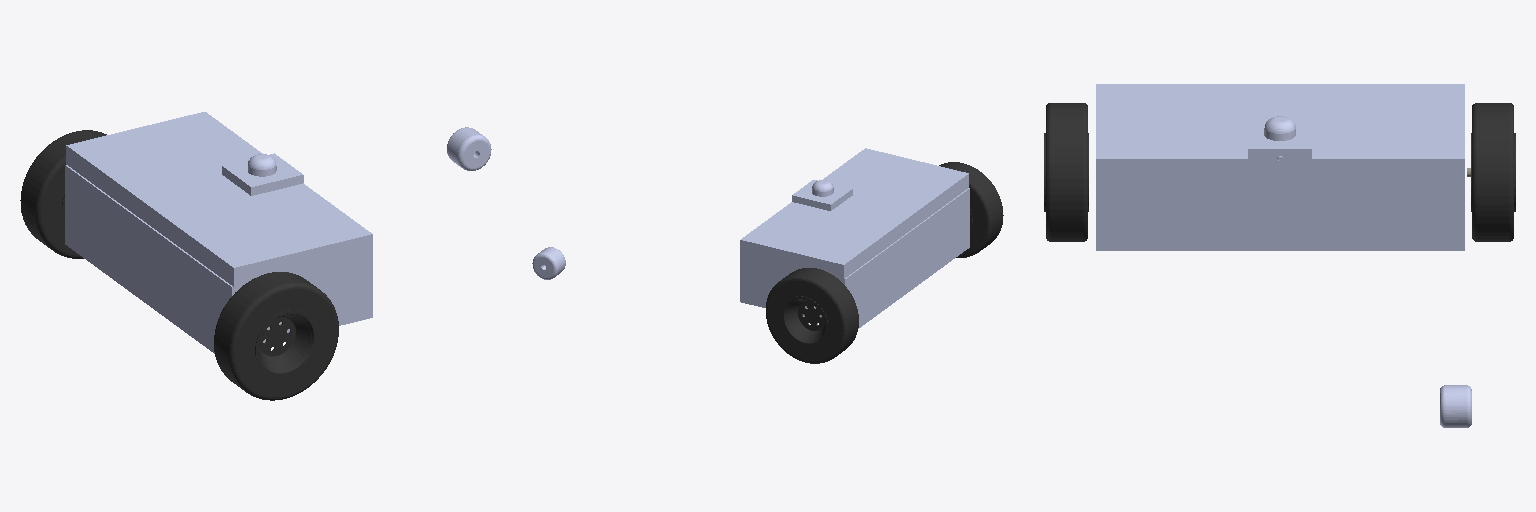
robot.urdf — mowbot:
<?xml version="1.0" encoding="utf-8"?>
<!-- This URDF was automatically created by SolidWorks to URDF Exporter! Originally created by [author] ([email redacted]) 
     Commit Version: 1.6.0-1-g15f4949  Build Version: 1.6.7594.29634
     For more information, please see http://wiki.ros.org/sw_urdf_exporter -->
<robot
  name="mowbot">
  <link
    name="base_link_collision">
    <inertial>
      <origin
        xyz="-1.07242311207568 -0.466809806679582 0.659283164452566"
        rpy="0 0 0" />
      <mass
        value="8.43639227238404" />
      <inertia
        ixx="0.784903759828431"
        ixy="1.08724156323787E-16"
        ixz="-0.0262712397999976"
        iyy="0.513799136067179"
        iyz="1.21747716886318E-16"
        izz="1.27862934221056" />
    </inertial>
    <visual>
      <origin
        xyz="0 0 0"
        rpy="0 0 0" />
      <geometry>
        <mesh
          filename="package://mowbot_v1/meshes/base_link_collision.STL" />
      </geometry>
      <material
        name="">
        <color
          rgba="0.792156862745098 0.819607843137255 0.933333333333333 1" />
      </material>
    </visual>
    <collision>
      <origin
        xyz="0 0 0"
        rpy="0 0 0" />
      <geometry>
        <mesh
          filename="package://mowbot_v1/meshes/base_link_collision.STL" />
      </geometry>
    </collision>
  </link>
  <link
    name="Left_back_link_collision">
    <inertial>
      <origin
        xyz="0 -0.0516944479368262 1.11022302462516E-16"
        rpy="0 0 0" />
      <mass
        value="0.457406434462016" />
      <inertia
        ixx="0.000379865320962435"
        ixy="-1.53340823737443E-20"
        ixz="2.00126009449548E-20"
        iyy="0.000605566845786777"
        iyz="-6.36282392622323E-20"
        izz="0.000379865320962435" />
    </inertial>
    <visual>
      <origin
        xyz="0 0 0"
        rpy="0 0 0" />
      <geometry>
        <mesh
          filename="package://mowbot_v1/meshes/Left_back_link_collision.STL" />
      </geometry>
      <material
        name="">
        <color
          rgba="0.647058823529412 0.619607843137255 0.588235294117647 1" />
      </material>
    </visual>
    <collision>
      <origin
        xyz="0 0 0"
        rpy="0 0 0" />
      <geometry>
        <mesh
          filename="package://mowbot_v1/meshes/Left_back_link_collision.STL" />
      </geometry>
    </collision>
  </link>

  <joint
    name="Left_drive_wheel_collision"
    type="revolute">
    <origin
      xyz="-1.5558 -0.024 0.62929"
      rpy="0 0 3.1416" />
    <parent
      link="base_link_collision" />
    <child
      link="Left_back_link_collision" />
    <axis
      xyz="0 1 0" />
    <limit
      effort="14.08"
      velocity="12.47" />
  </joint>

  <link
    name="Big_Left_drive_wheel">
    <inertial>
      <origin
        xyz="2.88657986402541E-15 0.00253999999999991 6.99440505513849E-15"
        rpy="0 0 0" />
      <mass
        value="0.865783559302399" />
      <inertia
        ixx="0.0087101639453226"
        ixy="-1.8447046377941E-19"
        ixz="6.2871241193797E-18"
        iyy="0.0148072252563878"
        iyz="1.27245613539844E-18"
        izz="0.00871016394532261" />
    </inertial>
    <visual>
      <origin
        xyz="0 0 0"
        rpy="0 0 0" />
      <geometry>
        <mesh
          filename="package://mowbot_v1/meshes/Big_Left_drive_wheel.STL" />
      </geometry>
      <material
        name="">
        <color
          rgba="0.250980392156863 0.250980392156863 0.250980392156863 1" />
      </material>
    </visual>
    <collision>
      <origin
        xyz="0 0 0"
        rpy="0 0 0" />
      <geometry>
        <mesh
          filename="package://mowbot_v1/meshes/Big_Left_drive_wheel.STL" />
      </geometry>
    </collision>
  </link>

  <joint
    name="Left_big_wheel"
    type="continuous">
    <origin
      xyz="0 -0.059347 0"
      rpy="0 0 -3.1416" />
    <parent
      link="Left_back_link_collision" />
    <child
      link="Big_Left_drive_wheel" />
    <axis
      xyz="0 1 0" />
  </joint>

  <link
    name="Right_back_link_collision">
    <inertial>
      <origin
        xyz="0.0516944479368262 0 0"
        rpy="0 0 0" />
      <mass
        value="0.457406434462017" />
      <inertia
        ixx="0.000605566845786777"
        ixy="-4.54885968259021E-20"
        ixz="-1.4852017744384E-20"
        iyy="0.000379865320962435"
        iyz="6.66407504159206E-20"
        izz="0.000379865320962436" />
    </inertial>
    <visual>
      <origin
        xyz="0 0 0"
        rpy="0 0 0" />
      <geometry>
        <mesh
          filename="package://mowbot_v1/meshes/Right_back_link_collision.STL" />
      </geometry>
      <material
        name="">
        <color
          rgba="0.647058823529412 0.619607843137255 0.588235294117647 1" />
      </material>
    </visual>
    <collision>
      <origin
        xyz="0 0 0"
        rpy="0 0 0" />
      <geometry>
        <mesh
          filename="package://mowbot_v1/meshes/Right_back_link_collision.STL" />
      </geometry>
    </collision>
  </link>

  <joint
    name="Right_drive_wheel_collision"
    type="revolute">
    <origin
      xyz="-1.5558 -0.9108 0.62929"
      rpy="0 0 -1.5708" />
    <parent
      link="base_link_collision" />
    <child
      link="Right_back_link_collision" />
    <axis
      xyz="-1 0 0" />
    <limit
      effort="14.08"
      velocity="12.47" />
  </joint>

  <link
    name="Big_right_drive_wheel">
    <inertial>
      <origin
        xyz="0 -0.0025400000000001 0"
        rpy="0 0 0" />
      <mass
        value="0.865783559302402" />
      <inertia
        ixx="0.00871016394532259"
        ixy="2.01760622051767E-18"
        ixz="2.57399683328125E-18"
        iyy="0.0148072252563877"
        iyz="2.68460910313788E-18"
        izz="0.00871016394532259" />
    </inertial>
    <visual>
      <origin
        xyz="0 0 0"
        rpy="0 0 0" />
      <geometry>
        <mesh
          filename="package://mowbot_v1/meshes/Big_right_drive_wheel.STL" />
      </geometry>
      <material
        name="">
        <color
          rgba="0.250980392156863 0.250980392156863 0.250980392156863 1" />
      </material>
    </visual>
    <collision>
      <origin
        xyz="0 0 0"
        rpy="0 0 0" />
      <geometry>
        <mesh
          filename="package://mowbot_v1/meshes/Big_right_drive_wheel.STL" />
      </geometry>
    </collision>
  </link>

  <joint
    name="Right_drive_wheel"
    type="continuous">
    <origin
      xyz="0.059347 0 0"
      rpy="0 0 1.5708" />
    <parent
      link="Right_back_link_collision" />
    <child
      link="Big_right_drive_wheel" />
    <axis
      xyz="0 -1 0" />
  </joint>

  <link
    name="Front_right_wheel_collision">
    <inertial>
      <origin
        xyz="-0.0362351705056738 0.011773802207645 -1.11022302462516E-16"
        rpy="0 0 0" />
      <mass
        value="0.572204494653308" />
      <inertia
        ixx="0.000736746749851423"
        ixy="-3.31369879620031E-05"
        ixz="1.207002854401E-20"
        iyy="0.000645531144479367"
        iyz="-3.92188381438836E-21"
        izz="0.000634764026881268" />
    </inertial>
    <visual>
      <origin
        xyz="0 0 0"
        rpy="0 0 0" />
      <geometry>
        <mesh
          filename="package://mowbot_v1/meshes/Front_right_wheel_collision.STL" />
      </geometry>
      <material
        name="">
        <color
          rgba="0.792156862745098 0.819607843137255 0.933333333333333 1" />
      </material>
    </visual>
    <collision>
      <origin
        xyz="0 0 0"
        rpy="0 0 0" />
      <geometry>
        <mesh
          filename="package://mowbot_v1/meshes/Front_right_wheel_collision.STL" />
      </geometry>
    </collision>
  </link>

  <joint
    name="Front_right_wheel_collision_joint"
    type="continuous">
    <origin
      xyz="0.03569 -0.0089225 -0.2032"
      rpy="0 0 0" />
    <parent
      link="Front_right_pivot_collision" />
    <child
      link="Front_right_wheel_collision" />
    <axis
      xyz="-0.95105 0.30902 0" />
  </joint>

  <link
    name="Front_left_wheel_collision">
    <inertial>
      <origin
        xyz="0.0380933250274411 0.000713153807905376 0"
        rpy="0 0 0" />
      <mass
        value="0.572204494653308" />
      <inertia
        ixx="0.000747474364238742"
        ixy="2.1100758786185E-06"
        ixz="-2.22480801212241E-20"
        iyy="0.000634803530092046"
        iyz="-5.65057302719004E-21"
        izz="0.000634764026881268" />
    </inertial>
    <visual>
      <origin
        xyz="0 0 0"
        rpy="0 0 0" />
      <geometry>
        <mesh
          filename="package://mowbot_v1/meshes/Front_left_wheel_collision.STL" />
      </geometry>
      <material
        name="">
        <color
          rgba="0.792156862745098 0.819607843137255 0.933333333333333 1" />
      </material>
    </visual>
    <collision>
      <origin
        xyz="0 0 0"
        rpy="0 0 0" />
      <geometry>
        <mesh
          filename="package://mowbot_v1/meshes/Front_left_wheel_collision.STL" />
      </geometry>
    </collision>
  </link>

  <joint
    name="Front_left_caster_wheel_collision"
    type="continuous">
    <origin
      xyz="-0.03569 0.0089225 -0.2032"
      rpy="0 0 0" />
    <parent
      link="Front_left_pivot_collision" />
    <child
      link="Front_left_wheel_collision" />
    <axis
      xyz="-0.99982 -0.018718 0" />
  </joint>

  <link
    name="Front_right_pivot_collision">
    <inertial>
      <origin
        xyz="0.00312127257340478 0.00960663401184786 -0.138503316862634"
        rpy="0 0 0" />
      <mass
        value="0.653153653717284" />
      <inertia
        ixx="0.00187148737171852"
        ixy="0.000481271649470043"
        ixz="-3.57978459347905E-05"
        iyy="0.00319627975514256"
        iyz="-0.000110145417942268"
        izz="0.00245508069726112" />
    </inertial>
    <visual>
      <origin
        xyz="0 0 0"
        rpy="0 0 0" />
      <geometry>
        <mesh
          filename="package://mowbot_v1/meshes/Front_right_pivot_collision.STL" />
      </geometry>
      <material
        name="">
        <color
          rgba="0.792156862745098 0.819607843137255 0.933333333333333 1" />
      </material>
    </visual>
    <collision>
      <origin
        xyz="0 0 0"
        rpy="0 0 0" />
      <geometry>
        <mesh
          filename="package://mowbot_v1/meshes/Front_right_pivot_collision.STL" />
      </geometry>
    </collision>
  </link>

  <joint
    name="Right_caster_wheel_pivot_collision"
    type="continuous">
    <origin
      xyz="-0.45126 -0.88591 0.73883"
      rpy="0 0 0" />
    <parent
      link="base_link_collision" />
    <child
      link="Front_right_pivot_collision" />
    <axis
      xyz="0 0 -1" />
  </joint>

  <link
    name="Front_left_pivot_collision">
    <inertial>
      <origin
        xyz="-0.000189247104649098 0.0100992051691442 -0.138503316862633"
        rpy="0 0 0" />
      <mass
        value="0.65315365371728" />
      <inertia
        ixx="0.0017156831912875"
        ixy="-3.06474534539606E-05"
        ixz="2.15969712554344E-06"
        iyy="0.00335208393557355"
        iyz="-0.000115796522294816"
        izz="0.00245508069726111" />
    </inertial>
    <visual>
      <origin
        xyz="0 0 0"
        rpy="0 0 0" />
      <geometry>
        <mesh
          filename="package://mowbot_v1/meshes/Front_left_pivot_collision.STL" />
      </geometry>
      <material
        name="">
        <color
          rgba="0.792156862745098 0.819607843137255 0.933333333333333 1" />
      </material>
    </visual>
    <collision>
      <origin
        xyz="0 0 0"
        rpy="0 0 0" />
      <geometry>
        <mesh
          filename="package://mowbot_v1/meshes/Front_left_pivot_collision.STL" />
      </geometry>
    </collision>
  </link>

  <joint
    name="left_caster_wheel_pivot_collision"
    type="continuous">
    <origin
      xyz="-0.45126 -0.04771 0.73883"
      rpy="0 0 -1.5708" />
    <parent
      link="base_link_collision" />
    <child
      link="Front_left_pivot_collision" />
    <axis
      xyz="0 0 -1" />
  </joint>

  <link
    name="mow_bot_shell">
    <inertial>
      <origin
        xyz="0.0103177962563166 -1.66533453693773E-16 -0.0754580559320999"
        rpy="0 0 0" />
      <mass
        value="2.52229769150772" />
      <inertia
        ixx="0.240070247017617"
        ixy="1.70831815742384E-15"
        ixz="-0.000443159597835744"
        iyy="0.0837962037965343"
        iyz="2.11120651691378E-15"
        izz="0.291120617111823" />
    </inertial>
    <visual>
      <origin
        xyz="0 0 0"
        rpy="0 0 0" />
      <geometry>
        <mesh
          filename="package://mowbot_v1/meshes/mow_bot_shell.STL" />
      </geometry>
      <material
        name="">
        <color
          rgba="0.792156862745098 0.819607843137255 0.933333333333333 1" />
      </material>
    </visual>
    <collision>
      <origin
        xyz="0 0 0"
        rpy="0 0 0" />
      <geometry>
        <mesh
          filename="package://mowbot_v1/meshes/mow_bot_shell.STL" />
      </geometry>
    </collision>
  </link>

  <joint
    name="shell_main"
    type="fixed">
    <origin
      xyz="-1.4447 -0.46681 0.81909"
      rpy="0 0 0" />
    <parent
      link="base_link_collision" />
    <child
      link="mow_bot_shell" />
    <axis
      xyz="0 0 0" />
  </joint>

  <link
    name="Camera">
    <inertial>
      <origin
        xyz="0.00605257666050485 1.11022302462516E-16 0"
        rpy="0 0 0" />
      <mass
        value="0.0169771128221458" />
      <inertia
        ixx="4.41883394431852E-06"
        ixy="7.09527723611906E-20"
        ixz="1.06858031281253E-20"
        iyy="1.15088438571727E-06"
        iyz="1.61028597114318E-20"
        izz="3.79395393827725E-06" />
    </inertial>
    <visual>
      <origin
        xyz="0 0 0"
        rpy="0 0 0" />
      <geometry>
        <mesh
          filename="package://mowbot_v1/meshes/Camera.STL" />
      </geometry>
      <material
        name="">
        <color
          rgba="0.792156862745098 0.819607843137255 0.933333333333333 1" />
      </material>
    </visual>
    <collision>
      <origin
        xyz="0 0 0"
        rpy="0 0 0" />
      <geometry>
        <mesh
          filename="package://mowbot_v1/meshes/Camera.STL" />
      </geometry>
    </collision>
  </link>

  <joint
    name="camera_box"
    type="revolute">
    <origin
      xyz="0.21869 0 0"
      rpy="0 0 3.1416" />
    <parent
      link="mow_bot_shell" />
    <child
      link="Camera" />
    <axis
      xyz="0 0 0" />
    <limit
      lower="0"
      upper="0"
      effort="0"
      velocity="0" />
  </joint>

  <link
    name="LiDAR">
    <inertial>
      <origin
        xyz="-2.22044604925031E-16 -1.66533453693773E-16 -0.0221554573851589"
        rpy="0 0 0" />
      <mass
        value="0.148759159944866" />
      <inertia
        ixx="6.39045146661207E-05"
        ixy="-3.10192729702637E-22"
        ixz="4.44079976516149E-19"
        iyy="6.39045146661208E-05"
        iyz="2.13938456213802E-19"
        izz="9.5825436313615E-05" />
    </inertial>
    <visual>
      <origin
        xyz="0 0 0"
        rpy="0 0 0" />
      <geometry>
        <mesh
          filename="package://mowbot_v1/meshes/LiDAR.STL" />
      </geometry>
      <material
        name="">
        <color
          rgba="0.792156862745098 0.819607843137255 0.933333333333333 1" />
      </material>
    </visual>
    <collision>
      <origin
        xyz="0 0 0"
        rpy="0 0 0" />
      <geometry>
        <mesh
          filename="package://mowbot_v1/meshes/LiDAR.STL" />
      </geometry>
    </collision>
  </link>

  <joint
    name="LiDAR_unit"
    type="revolute">
    <origin
      xyz="0.13767 0 0.064668"
      rpy="0 0 0" />
    <parent
      link="mow_bot_shell" />
    <child
      link="LiDAR" />
    <axis
      xyz="0 0 0" />
    <limit
      lower="0"
      upper="0"
      effort="0"
      velocity="0" />
  </joint>

  <link
    name="back_plate">
    <inertial>
      <origin
        xyz="0.00253999999999999 0 1.11022302462516E-16"
        rpy="0 0 0" />
      <mass
        value="1.01763667439999" />
      <inertia
        ixx="0.069552044891922"
        ixy="-2.18773587598435E-18"
        ixz="-1.61488076606738E-18"
        iyy="0.00443382318036685"
        iyz="-9.85967159903113E-33"
        izz="0.0651225986347341" />
    </inertial>
    <visual>
      <origin
        xyz="0 0 0"
        rpy="0 0 0" />
      <geometry>
        <mesh
          filename="package://mowbot_v1/meshes/back_plate.STL" />
      </geometry>
      <material
        name="">
        <color
          rgba="0.792156862745098 0.819607843137255 0.933333333333333 1" />
      </material>
    </visual>
    <collision>
      <origin
        xyz="0 0 0"
        rpy="0 0 0" />
      <geometry>
        <mesh
          filename="package://mowbot_v1/meshes/back_plate.STL" />
      </geometry>
    </collision>
  </link>

  <joint
    name="mowbot_back"
    type="fixed">
    <origin
      xyz="-1.6501 -0.46681 0.64993"
      rpy="0 0 0" />
    <parent
      link="base_link_collision" />
    <child
      link="back_plate" />
    <axis
      xyz="0 0 0" />
  </joint>

</robot>

--- Facts derived from the render (not from the file) ---
Views: 3 orthographic renders of the robot side by side, from view 1: azimuth 30°, elevation 25°; view 2: azimuth 150°, elevation 25°; view 3: azimuth 270°, elevation 25°.
Model mowbot with 13 links and 12 joints (4 revolute, 6 continuous, 2 fixed), rooted at base_link_collision, posed every joint at zero.
Links seen in each view (by area): view 1: mow_bot_shell, back_plate, Big_right_drive_wheel, Big_Left_drive_wheel, Front_left_wheel_collision, LiDAR; view 2: mow_bot_shell, back_plate, Big_Left_drive_wheel, Big_right_drive_wheel, Front_left_wheel_collision; view 3: mow_bot_shell, Big_right_drive_wheel, Big_Left_drive_wheel, Front_left_wheel_collision, LiDAR.
Link boxes in pixels (x1,y1,x2,y2): mow_bot_shell: [66, 112, 372, 342]; back_plate: [65, 165, 233, 353]; Big_right_drive_wheel: [214, 272, 338, 400]; Big_Left_drive_wheel: [20, 130, 106, 258]; Front_left_wheel_collision: [447, 127, 491, 170]; LiDAR: [248, 154, 276, 176]; mow_bot_shell: [740, 148, 968, 316]; back_plate: [844, 188, 969, 328]; Big_Left_drive_wheel: [766, 268, 858, 363]; Big_right_drive_wheel: [939, 162, 1003, 257]; Front_left_wheel_collision: [532, 247, 565, 279]; mow_bot_shell: [1096, 84, 1464, 250]; Big_right_drive_wheel: [1044, 103, 1088, 241]; Big_Left_drive_wheel: [1471, 103, 1515, 241]; Front_left_wheel_collision: [1440, 385, 1471, 427]; LiDAR: [1264, 116, 1295, 140].
Size in the robot's own frame: 1.33 by 1.12 by 0.4196 metres.
8 mesh visuals loaded from 13 distinct referenced files (8 binary STL); not drawn: 5 (reference not matched to a file when rendering).